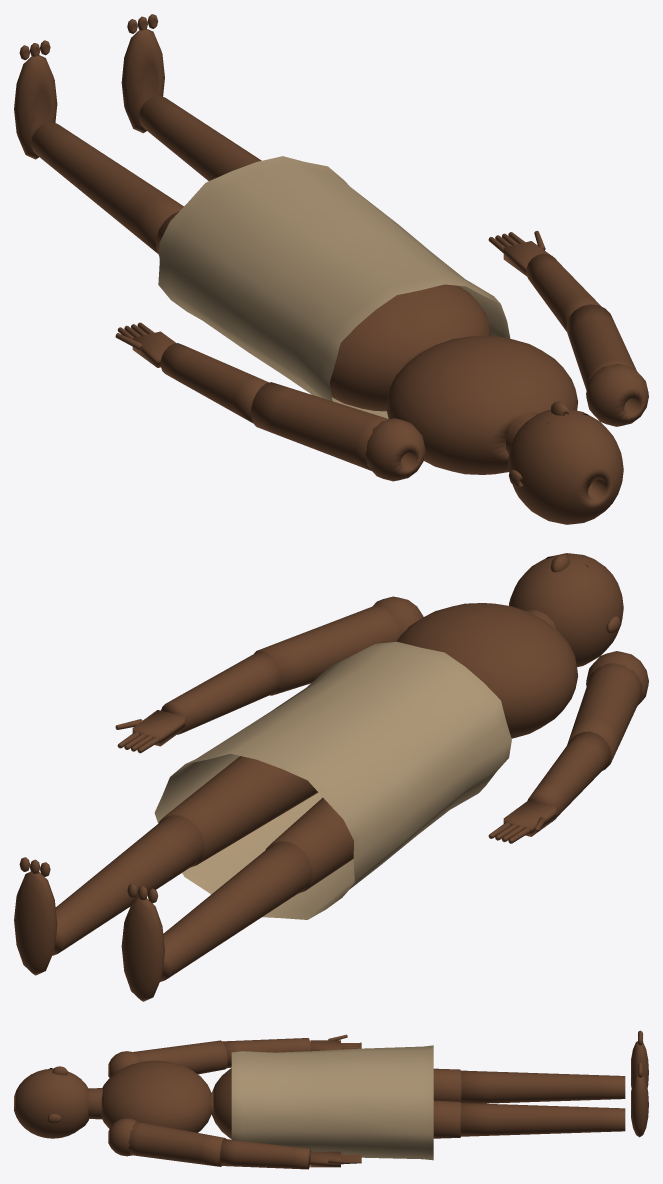
File: NPC_CIVILIAN_M1.obj
3 views of the same model, one above another, from view 1: azimuth 30°, elevation 25°; view 2: azimuth 150°, elevation 25°; view 3: azimuth 270°, elevation 25° (orthographic). The views are drawn at different scales.
Parts seen in each view (by area): view 1: waist_wrapper, torso, head, shin_foot.L, pelvis, upperarm.L, shin_foot.R, upperarm.R, forearm_hand.L, forearm_hand.R; view 2: waist_wrapper, torso, shin_foot.L, shin_foot.R, head, thigh.R, upperarm.R, forearm_hand.R, forearm_hand.L, upperarm.L, thigh.L; view 3: waist_wrapper, torso, shin_foot.R, shin_foot.L, head, upperarm.R, forearm_hand.R, upperarm.L, forearm_hand.L, pelvis, thigh.R, thigh.L.
Boxes of the visible parts, <box> form: waist_wrapper: <box>158,156,510,418</box>; torso: <box>386,335,577,474</box>; head: <box>506,409,623,524</box>; shin_foot.L: <box>14,40,183,253</box>; pelvis: <box>329,284,491,411</box>; upperarm.L: <box>251,382,425,481</box>; shin_foot.R: <box>121,14,261,180</box>; upperarm.R: <box>566,304,648,426</box>; forearm_hand.L: <box>115,322,268,422</box>; forearm_hand.R: <box>488,231,601,331</box>; waist_wrapper: <box>154,641,511,919</box>; torso: <box>396,603,577,738</box>; shin_foot.L: <box>121,841,311,1001</box>; shin_foot.R: <box>14,815,203,975</box>; head: <box>509,553,623,666</box>; thigh.R: <box>159,756,318,867</box>; upperarm.R: <box>254,596,423,695</box>; forearm_hand.R: <box>115,651,280,753</box>; forearm_hand.L: <box>488,731,610,843</box>; upperarm.L: <box>567,651,648,770</box>; thigh.L: <box>265,797,353,893</box>; waist_wrapper: <box>231,1045,433,1160</box>; torso: <box>100,1060,211,1132</box>; shin_foot.R: <box>461,1063,648,1137</box>; shin_foot.L: <box>461,1030,648,1103</box>; head: <box>14,1069,102,1138</box>; upperarm.R: <box>108,1118,225,1166</box>; forearm_hand.R: <box>220,1139,361,1169</box>; upperarm.L: <box>108,1040,227,1077</box>; forearm_hand.L: <box>222,1034,361,1068</box>; pelvis: <box>211,1068,231,1138</box>; thigh.R: <box>433,1100,461,1138</box>; thigh.L: <box>433,1068,461,1101</box>.
Size of the model in its own units: 0.8348 by 0.3139 by 1.76.
